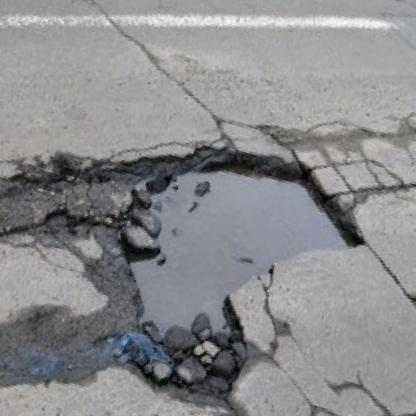pothole: (62, 115, 378, 416)
